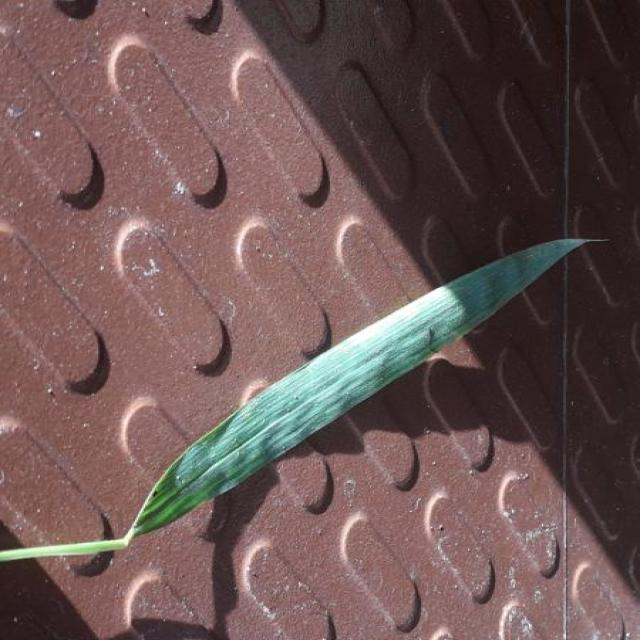Bamboo: (0, 239, 593, 561)
